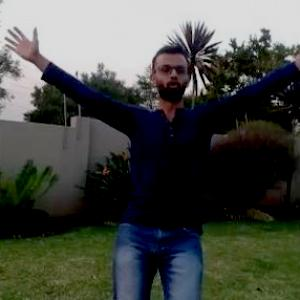takeoff: (5, 32, 299, 299)
